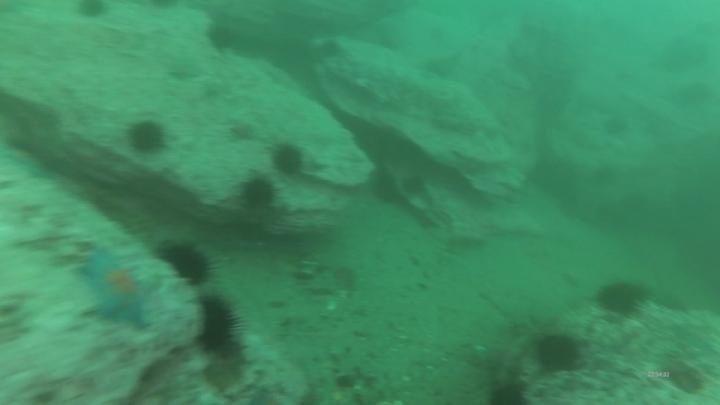echinus: (194, 292, 244, 356), (157, 239, 216, 288), (594, 277, 649, 318), (532, 331, 583, 375), (124, 117, 169, 158), (238, 173, 278, 212), (269, 140, 307, 178), (368, 167, 401, 207), (204, 21, 239, 55), (486, 379, 530, 405), (329, 262, 361, 294), (399, 171, 430, 200), (72, 0, 111, 23)
starfish: (75, 245, 160, 332), (226, 119, 258, 145)
